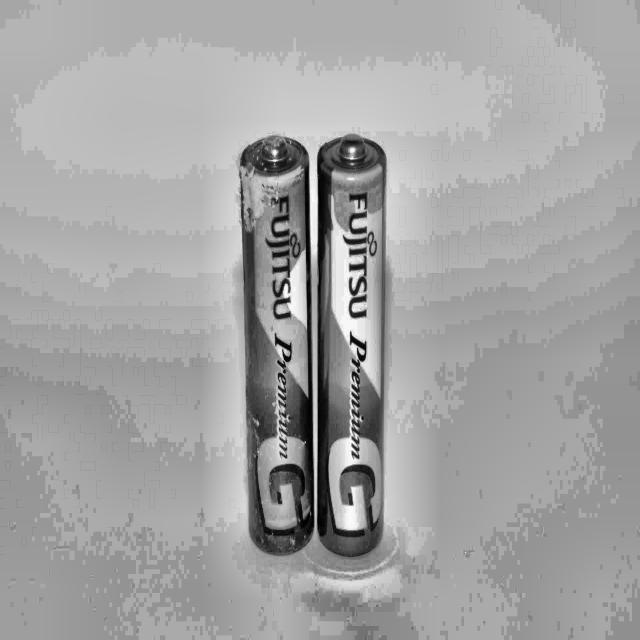drycell: (234, 124, 317, 560), (316, 129, 392, 562)
